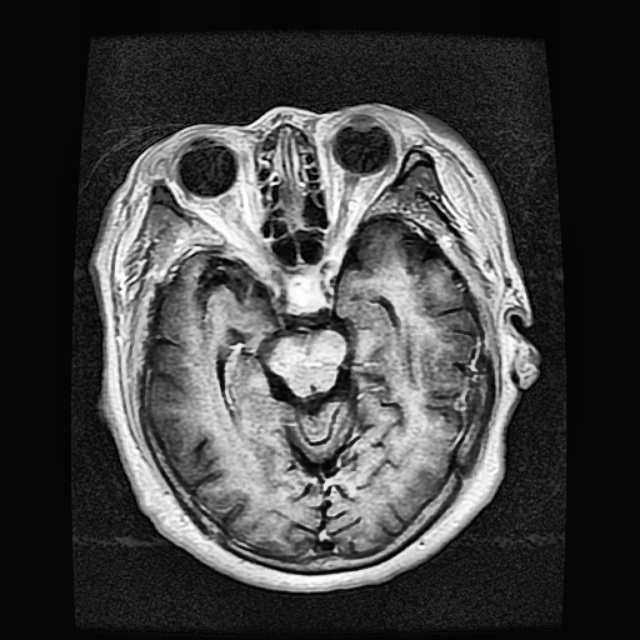Pituitary: (285, 269, 323, 310)
